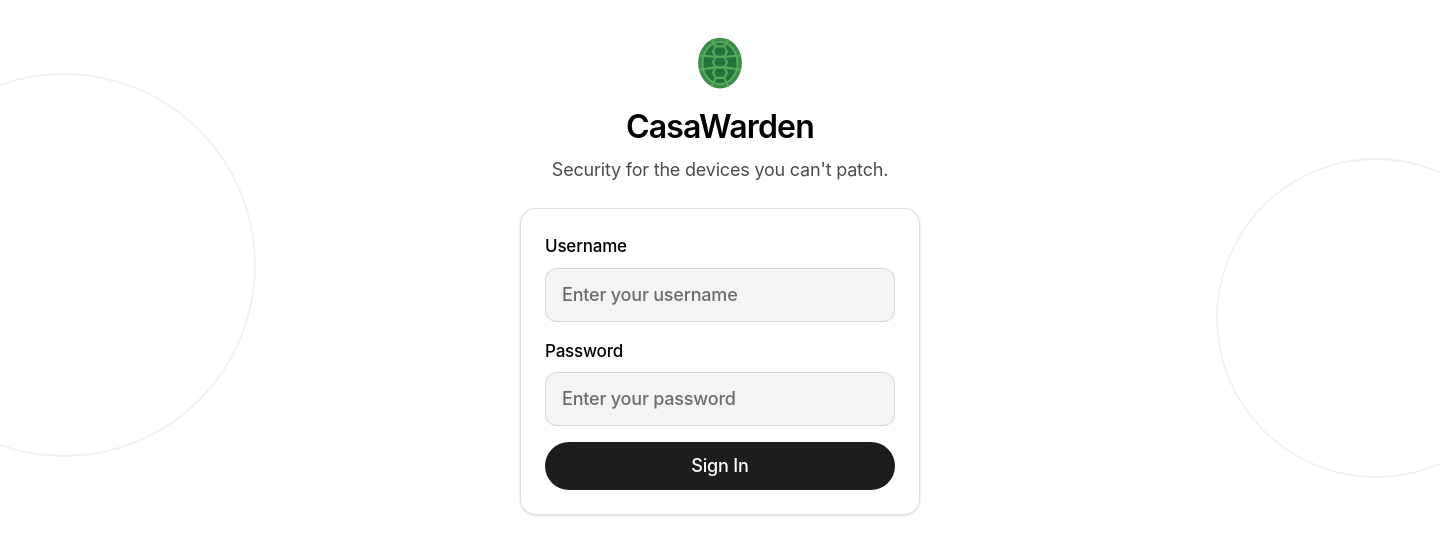
retains sign-in, saved credentials support, and visible API errors
Later steps or results of the test are not shown.
Type "judge" into the field labelled "Username". click: (720, 295)
box: x1=545 y1=268 x2=895 y2=322
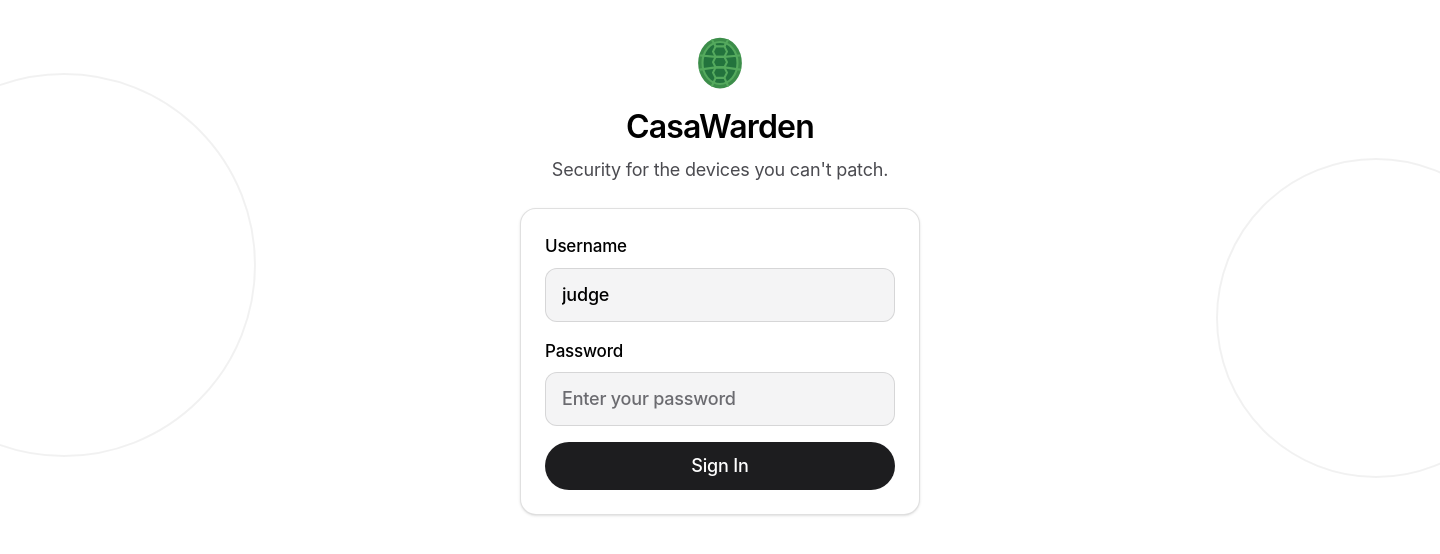
Type "long-test-password" into the password field labelled "Password". click: (720, 399)
box: x1=545 y1=372 x2=895 y2=426
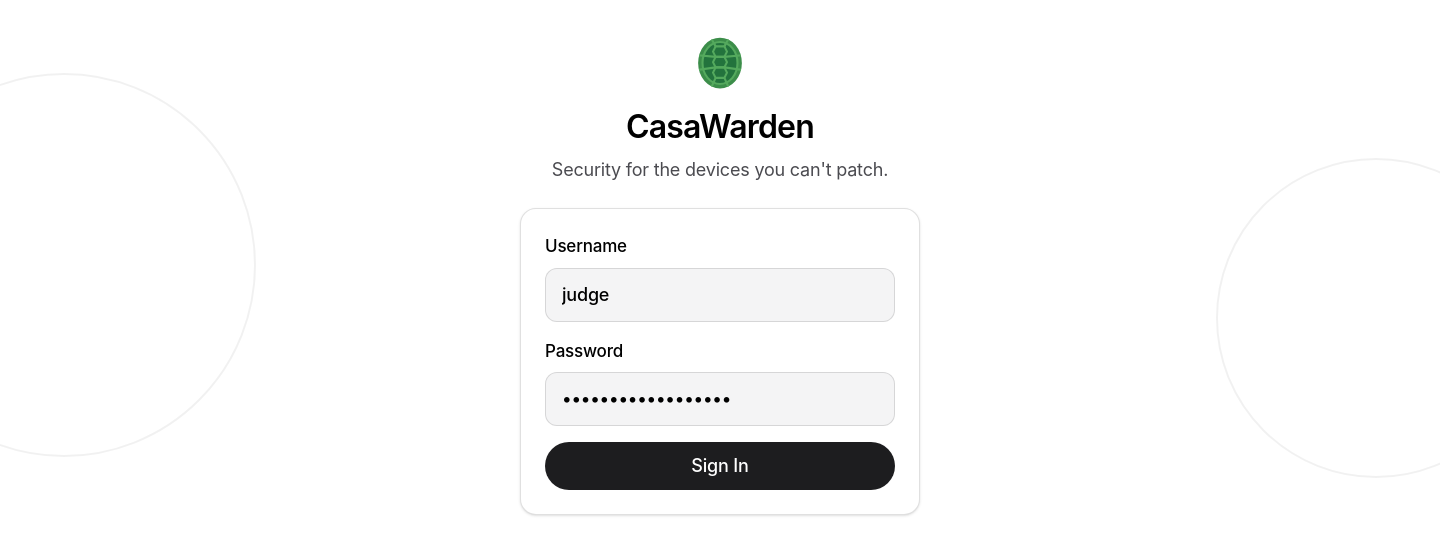
Submit the form "Sign In", box x1=520 y1=208 x2=920 y2=515
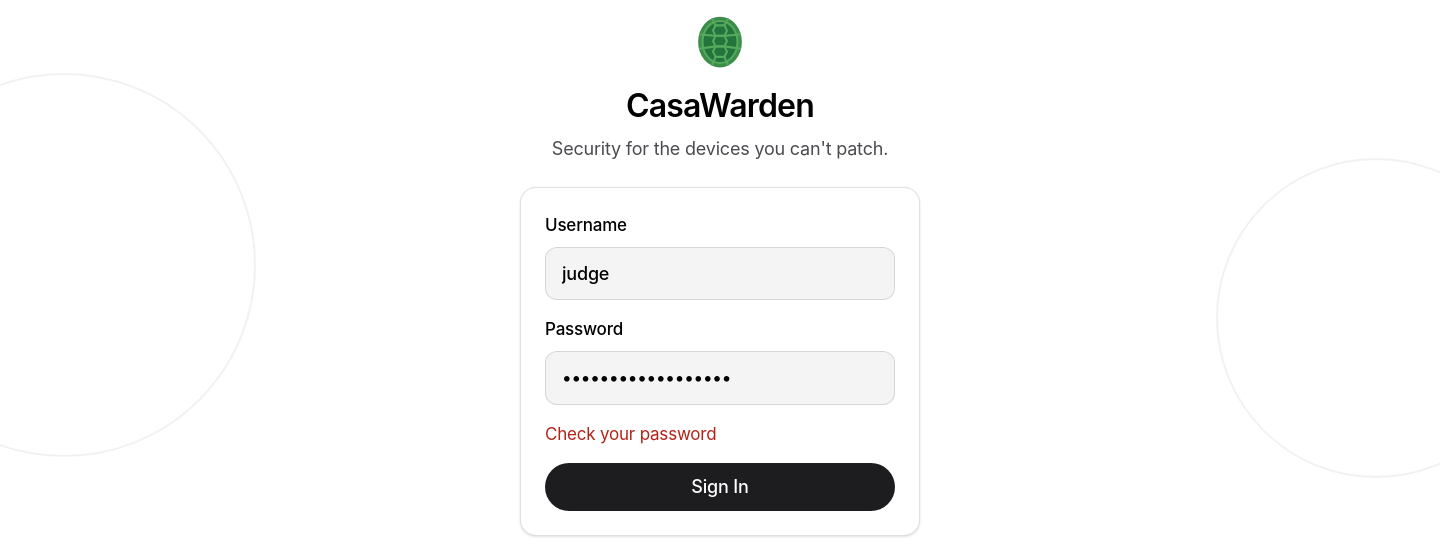
Expected: the button "Sign In" is enabled, x1=545 y1=463 x2=895 y2=511
Expected: the message reads "Check your password", x1=545 y1=424 x2=716 y2=444
